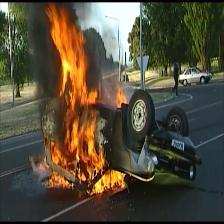fire: (45, 5, 129, 192)
